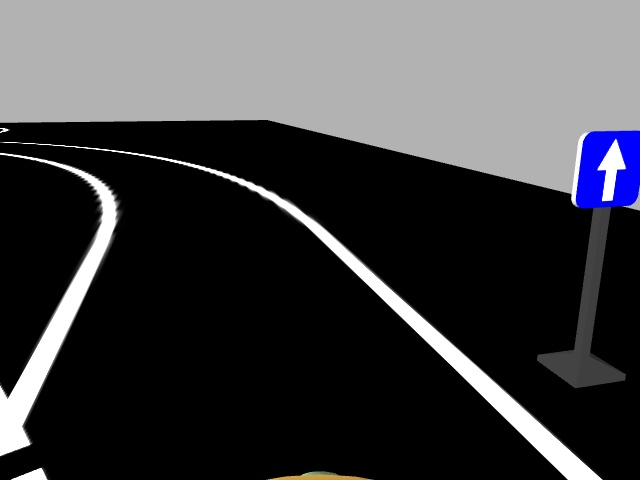OneWay: (574, 129, 639, 203)
